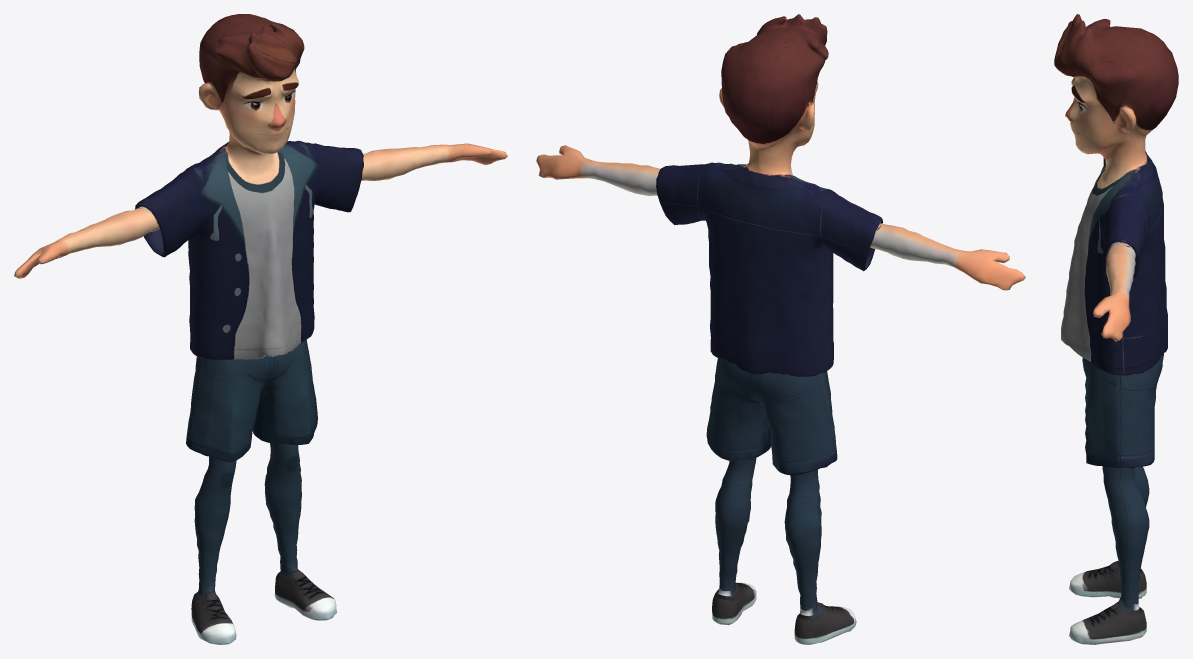
File: character.glb
3 views of the same model, side by side, from view 1: azimuth 30°, elevation 25°; view 2: azimuth 150°, elevation 25°; view 3: azimuth 270°, elevation 25° (orthographic). The views are drawn at different scales.
Size of the model in its own units: 1.62 by 1.91 by 0.364.
Materials: 1 (1 with a texture image).
